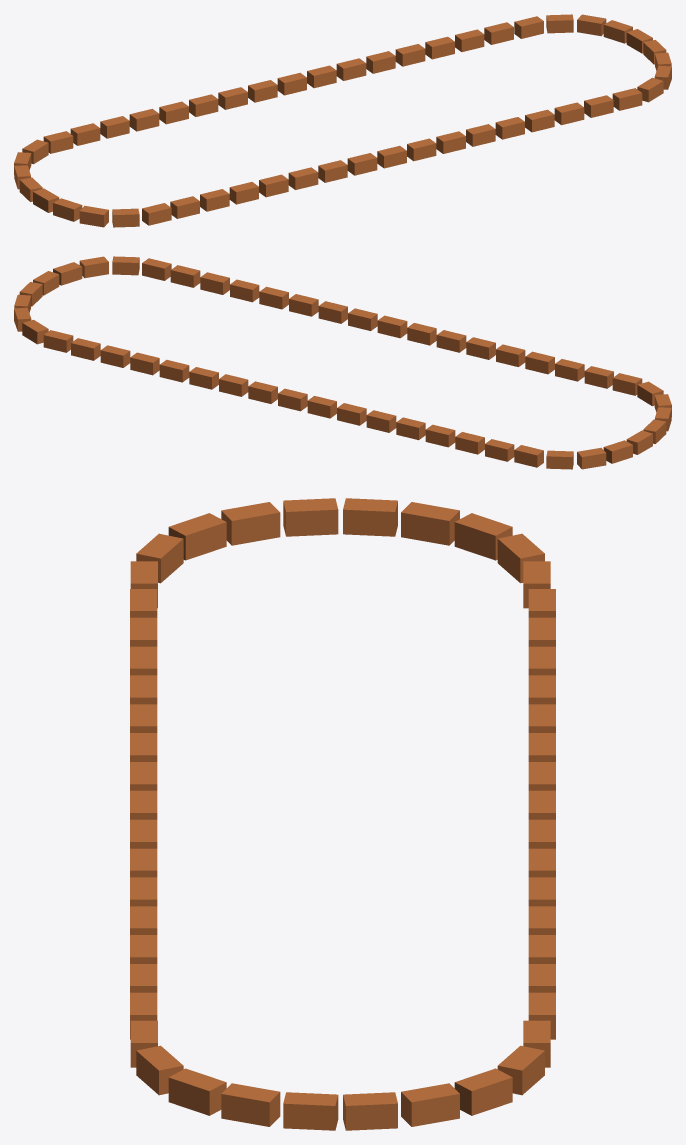
The model's file is ModdleBrick_A.fbx.
3 views of the same model, one above another, from view 1: azimuth 30°, elevation 25°; view 2: azimuth 150°, elevation 25°; view 3: azimuth 270°, elevation 25° (orthographic). The views are drawn at different scales.
Parts seen in each view (by area): view 1: Cube.185, Cube.187, Cube.189, Cube.188; view 2: Cube.187, Cube.185, Cube.189, Cube.188; view 3: Cube.188, Cube.189, Cube.187, Cube.185.
Part boxes in pixels (left/top/right/bottom): Cube.185: left=170, top=95, right=613, bottom=218; Cube.187: left=70, top=22, right=513, bottom=145; Cube.189: left=14, top=131, right=171, bottom=227; Cube.188: left=514, top=14, right=671, bottom=110; Cube.187: left=71, top=338, right=514, bottom=461; Cube.185: left=170, top=265, right=613, bottom=388; Cube.189: left=514, top=373, right=671, bottom=469; Cube.188: left=14, top=256, right=171, bottom=352; Cube.188: left=130, top=1020, right=550, bottom=1130; Cube.189: left=130, top=498, right=550, bottom=608; Cube.187: left=528, top=589, right=555, bottom=1039; Cube.185: left=130, top=589, right=157, bottom=1039.
Size of the model in its own units: 5526 by 105 by 1637.
